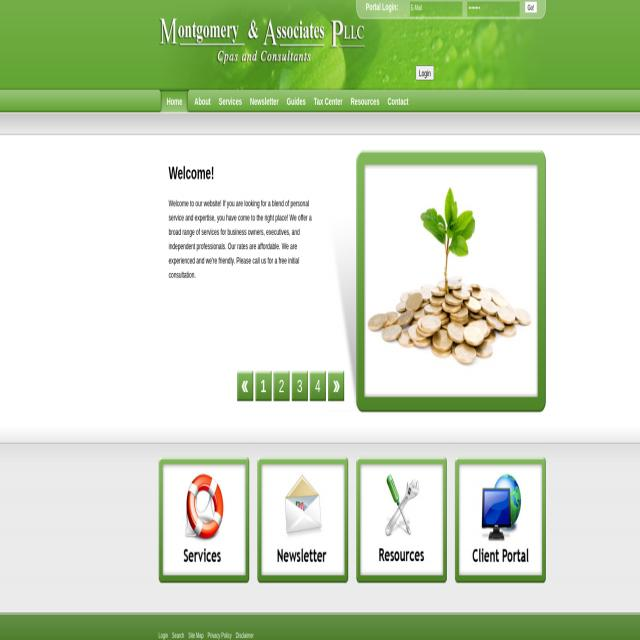button: (356, 150, 546, 413), (158, 0, 370, 68), (358, 461, 449, 586), (160, 460, 250, 585), (457, 462, 547, 587), (259, 462, 349, 587), (346, 90, 384, 112), (246, 90, 282, 112), (310, 90, 346, 112), (158, 90, 190, 112), (214, 90, 246, 112), (383, 90, 412, 112), (282, 90, 310, 112), (190, 90, 214, 112), (328, 371, 344, 402), (309, 372, 326, 401), (256, 371, 272, 401), (292, 371, 308, 401), (274, 372, 290, 400), (237, 373, 253, 400), (416, 66, 434, 80), (525, 1, 537, 12)
field: (468, 1, 520, 15), (410, 2, 462, 15)
